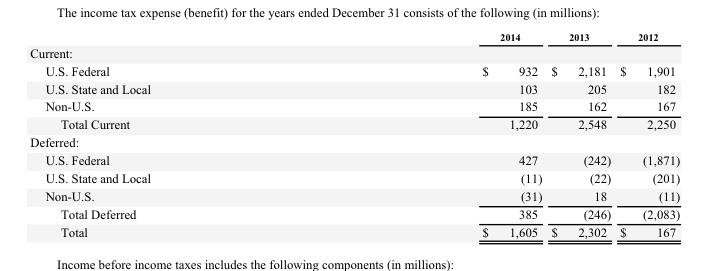table: (29, 29, 679, 239)
table column: (29, 29, 315, 239), (315, 29, 545, 239), (545, 29, 614, 239), (614, 29, 679, 239)
table column header: (29, 29, 679, 43)
table projected row header: (29, 43, 679, 61), (29, 132, 679, 150)
table row: (29, 43, 679, 61), (29, 61, 679, 79), (29, 79, 679, 97), (29, 114, 679, 132), (29, 132, 679, 150), (29, 150, 679, 168), (29, 168, 679, 186), (29, 186, 679, 204), (29, 204, 679, 222), (29, 97, 679, 114), (29, 222, 679, 239), (29, 29, 679, 43)
